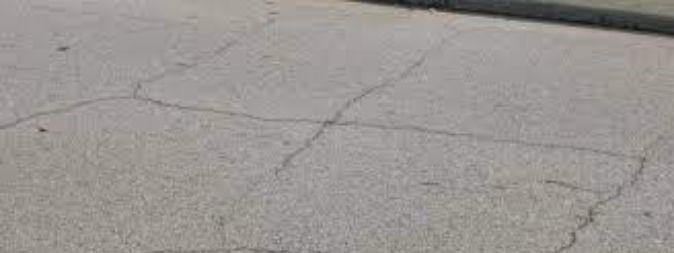crack: (327, 119, 655, 243), (2, 89, 324, 182), (332, 27, 464, 113), (138, 24, 275, 83)
